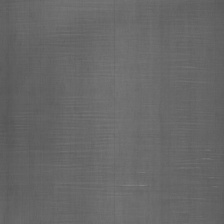waist_folding: (33, 11, 221, 168)
